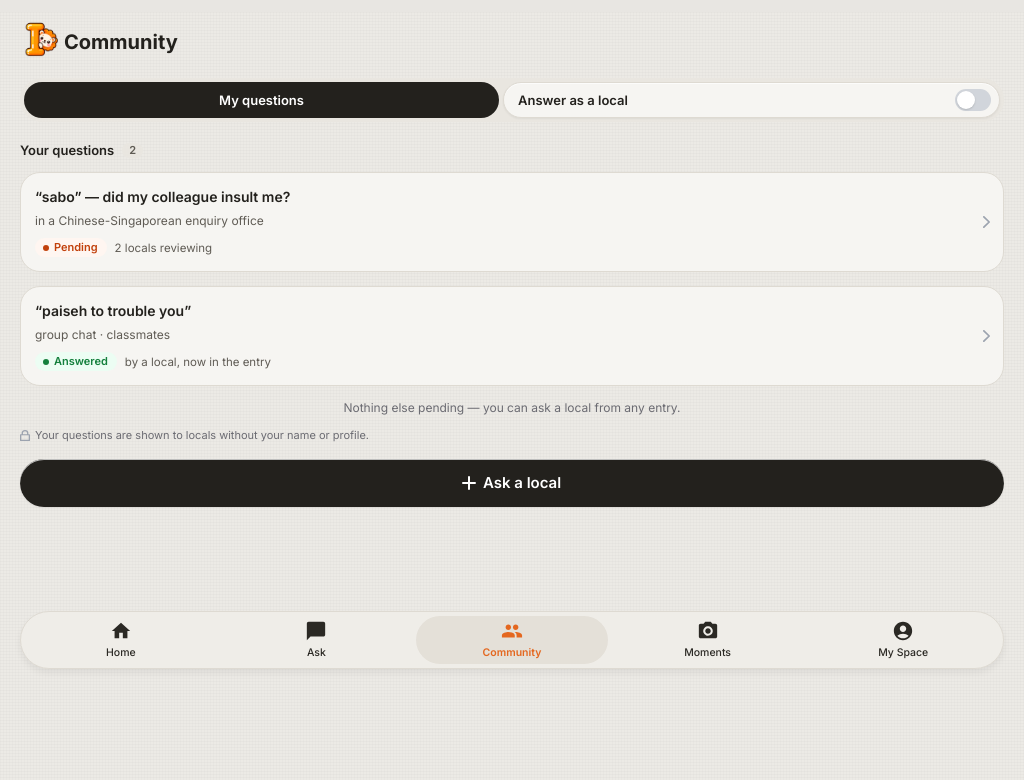
it: the local-answering switch is saved and changes the note
Click the switch named "Answer as a local" at (973, 100), box [955,89,991,111]
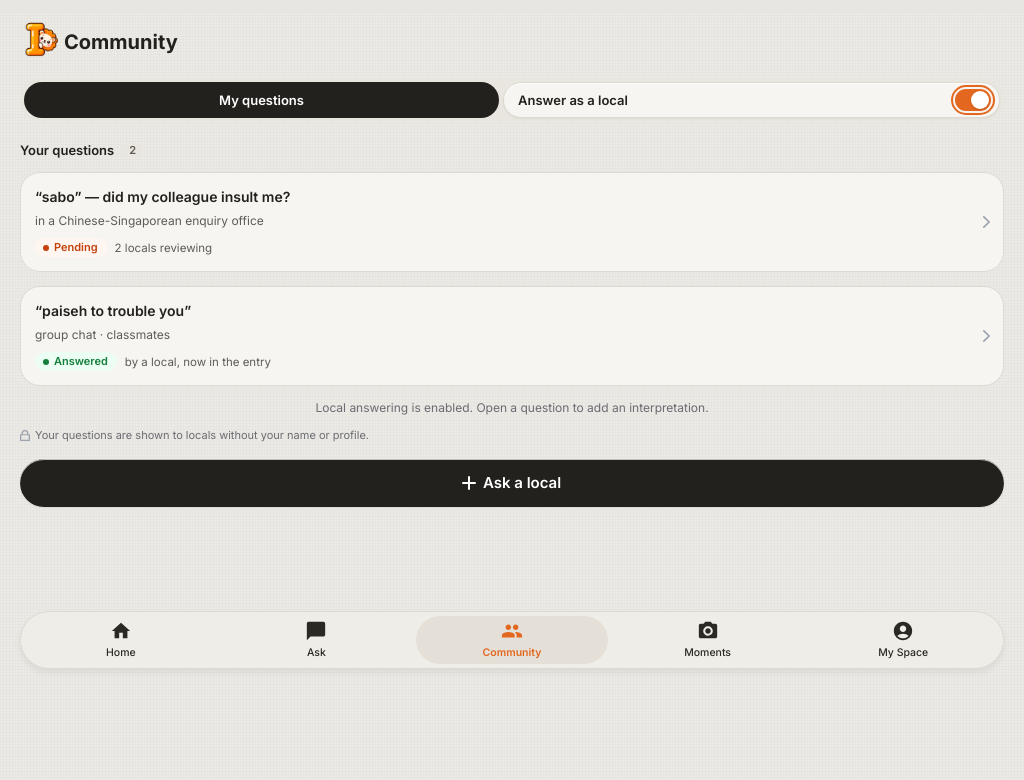
Check: the text "Local answering is enabled. Open a question to add an interpretation." is shown, box [315,400,709,415]
